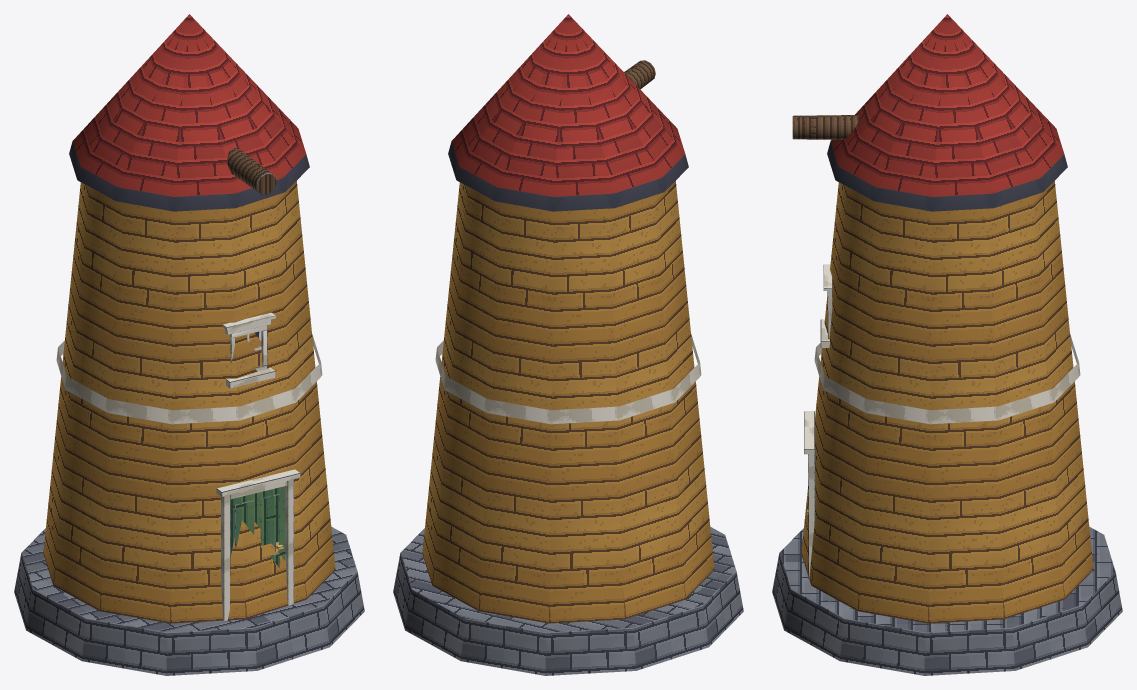
Rendered from windmill_tower_2.glb.
3 renders of one model, left to right at view 1: azimuth 30°, elevation 25°; view 2: azimuth 150°, elevation 25°; view 3: azimuth 270°, elevation 25°, orthographic.
Visible parts, largest first — view 1: windmill_tower_3; view 2: windmill_tower_3; view 3: windmill_tower_3.
Part boxes in pixels (x1=…): windmill_tower_3: x1=14, y1=14, x2=364, y2=675; windmill_tower_3: x1=393, y1=14, x2=743, y2=675; windmill_tower_3: x1=772, y1=14, x2=1122, y2=675.
Size of the model in its own units: 4.76 by 8.8 by 4.76.
9 materials, 9 textured.
